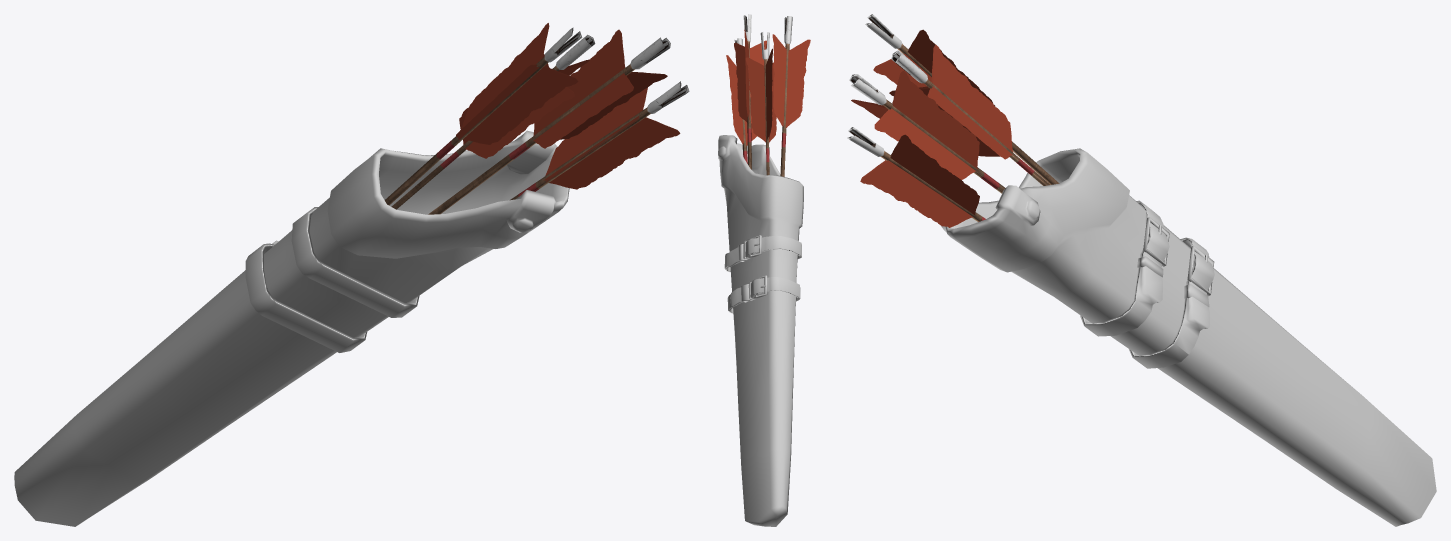
File: zeh.fbx
3 views of the same model, side by side, from view 1: azimuth 30°, elevation 25°; view 2: azimuth 150°, elevation 25°; view 3: azimuth 270°, elevation 25° (orthographic). The views are drawn at different scales.
Visible parts, largest first — view 1: arrow_low6_lambert4_0; view 2: arrow_low6_lambert4_0; view 3: arrow_low6_lambert4_0.
Boxes of the visible parts, <box> form: arrow_low6_lambert4_0: <box>14,23,689,526</box>; arrow_low6_lambert4_0: <box>718,14,810,526</box>; arrow_low6_lambert4_0: <box>847,14,1436,526</box>.
Bounding box in the file's own units: 375 × 603 × 529.
